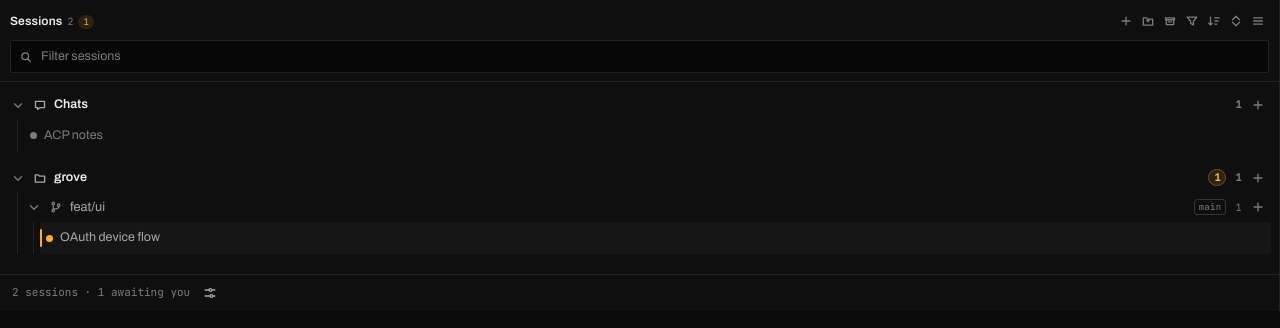
it: NavTree › collapses a project without losing its count
Click the button named "Toggle grove" at (18, 178), box [8, 165, 28, 191]
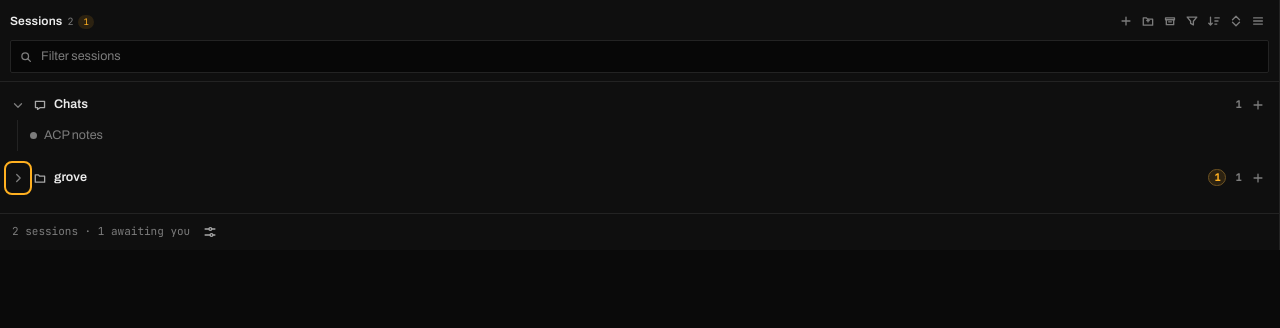
Check: the button named "Toggle grove" is collapsed, box [8, 165, 28, 191]
